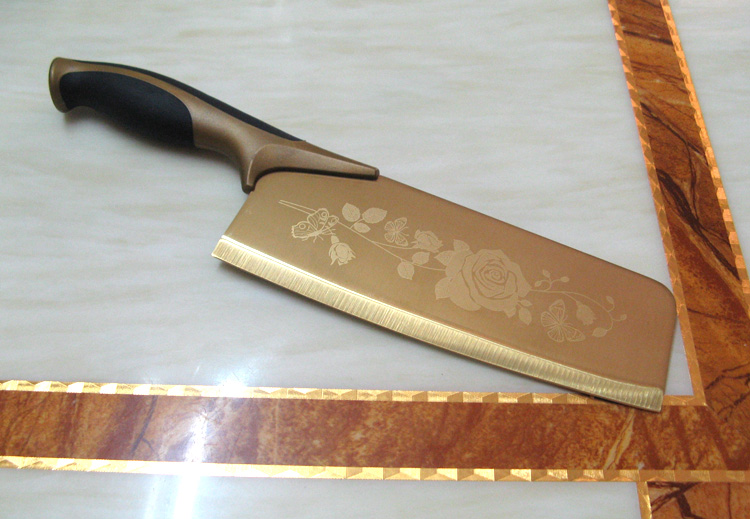knief: (46, 49, 684, 413)
